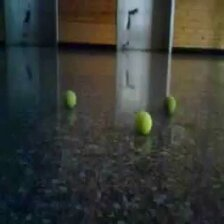tennis: (135, 111, 152, 135), (65, 91, 77, 109), (164, 97, 175, 115)
